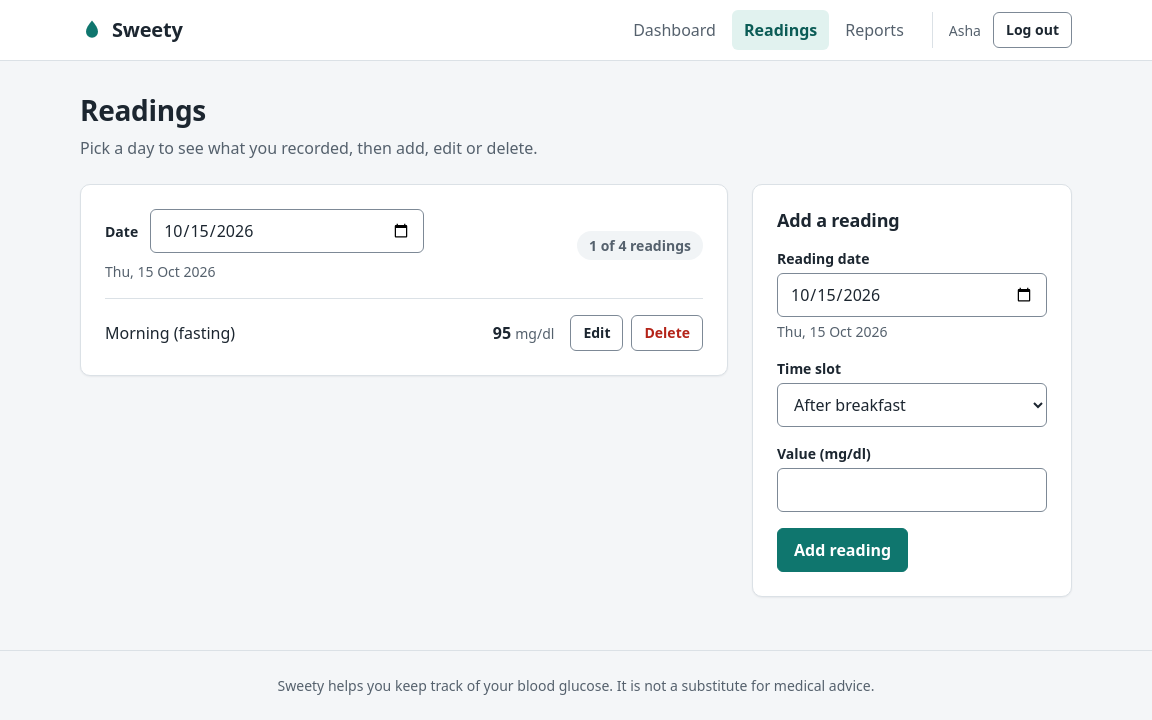
Editing and deleting readings › logs out and shows the login page when saving an edit gets a 401
This screenshot has width=1152, height=720.
Expected: the text "1 of 4 readings" is shown, [577,231,703,260]
Click the button "Edit": [597, 333] box [570,315,624,351]
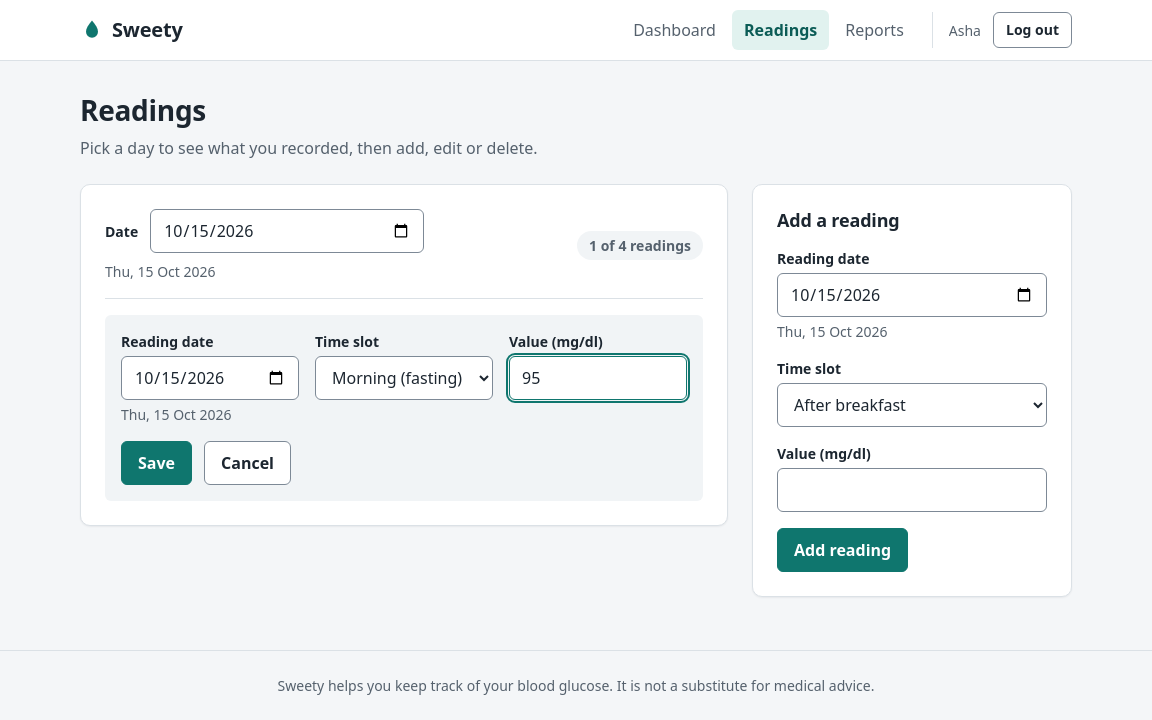
Replace the text in the field labelled "Value (mg/dl)" below "1 of 4 readings" with "120": [598, 378] box [509,356,687,400]
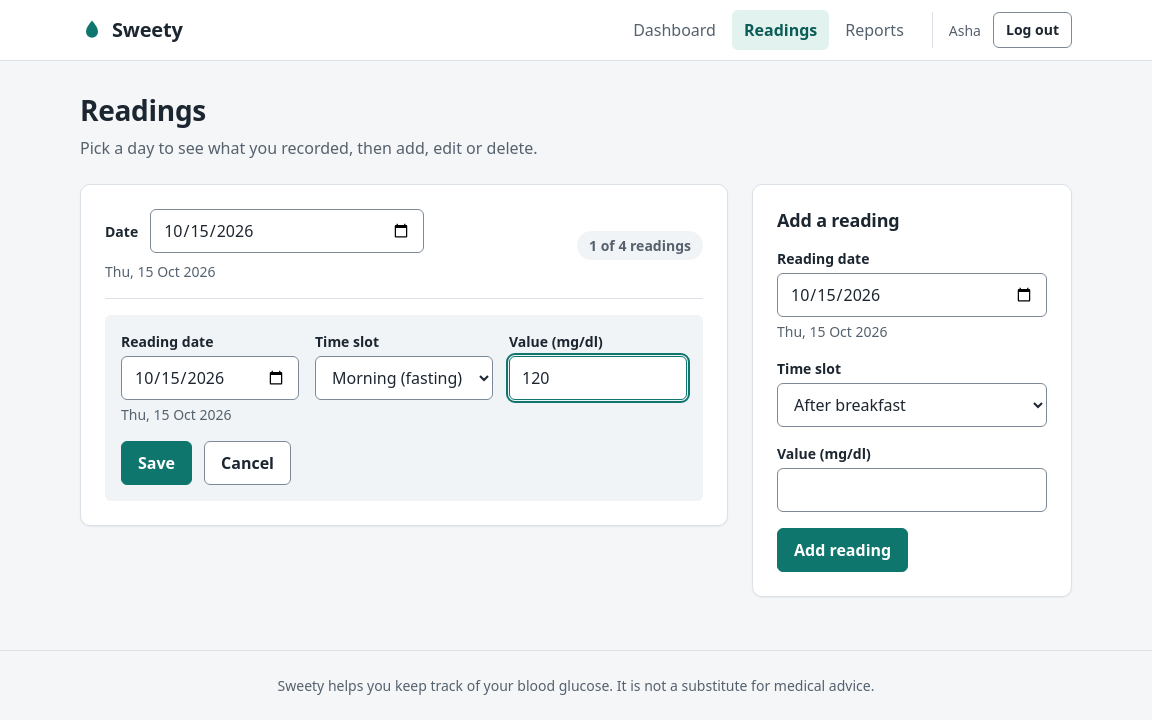
Click the button "Save": [156, 463] box [121,441,192,485]
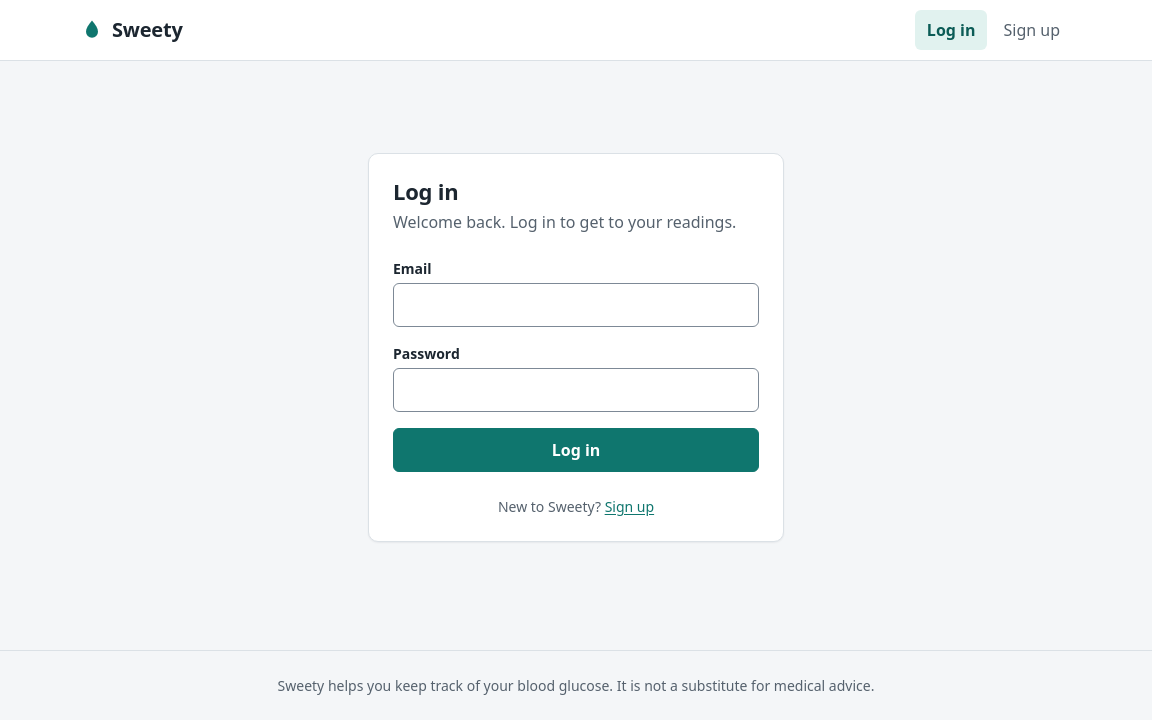
Now the heading "Log in" is shown, box [393,176,458,206]
